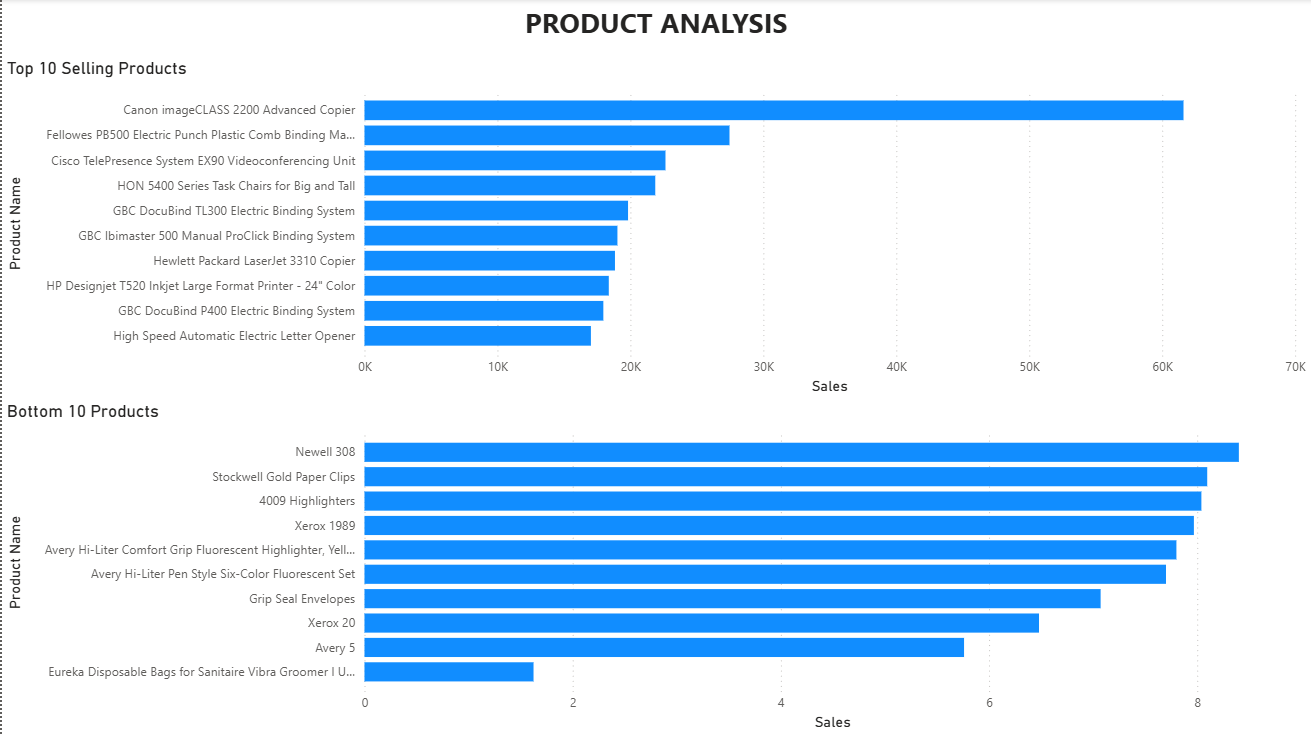

What the dashboard file says about the page in this screenshot:
{"tool":"powerbi","page":{"name":"Product Analysis","canvas":[1280,720],"ordinal":1},"visuals":[{"type":"barChart","title":"Bottom 10 Products","fields":{"Category":["Sample - Superstore.Product Name"],"Y":["Sum(Sample - Superstore.Sales)"]},"box":[0,392.5,1280.3,328],"z":1},{"type":"barChart","title":"Top 10 Selling Products","fields":{"Category":["Sample - Superstore.Product Name"],"Y":["Sum(Sample - Superstore.Sales)"]},"box":[0,57.6,1280.3,334.8],"z":2},{"type":"textbox","box":[0,0,1280.3,57.6],"z":3}]}

Visuals, with their boxes in screenshot pixels (x1, y1, x2, y2), scaled from the page's 1280x720 canvas onto the 1311x735 screenshot:
"Bottom 10 Products" barChart: <box>0,401,1310,734</box>
"Top 10 Selling Products" barChart: <box>0,59,1310,401</box>
textbox: <box>0,0,1310,59</box>
